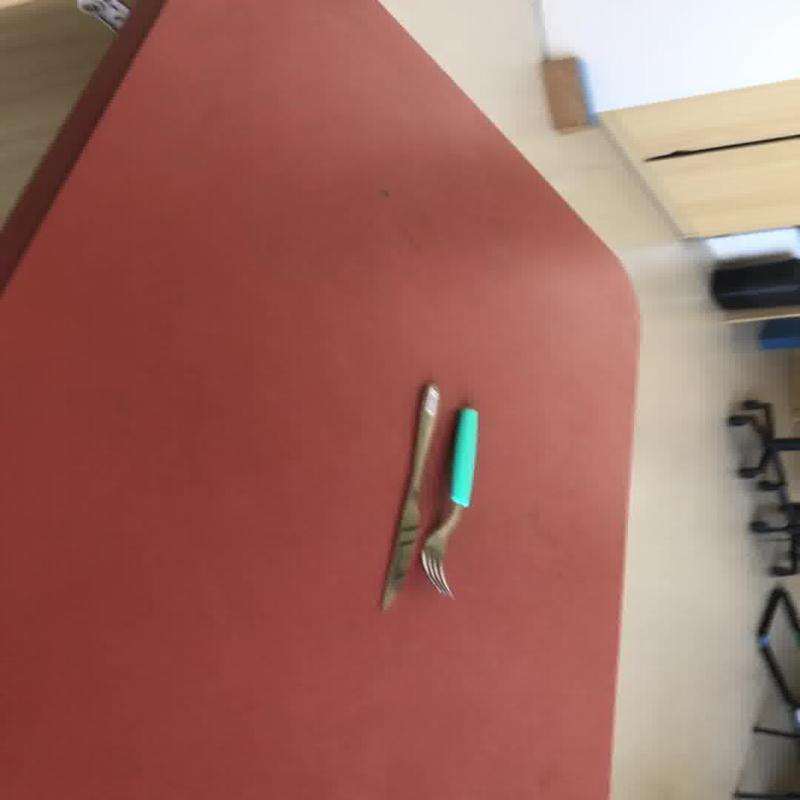fork: (418, 406, 478, 598)
knife: (377, 380, 441, 612)
